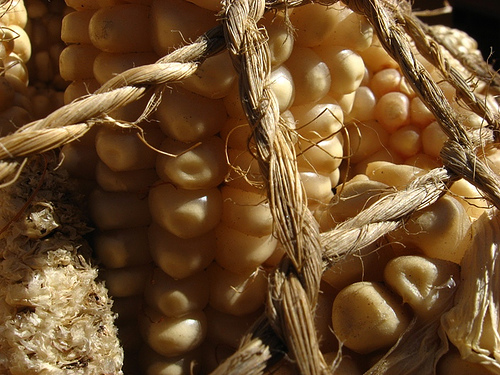corn: (0, 8, 499, 374), (328, 278, 411, 354), (310, 37, 368, 98), (88, 0, 154, 51)
